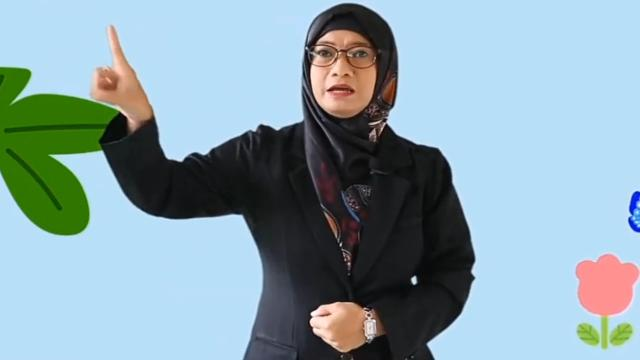D: (90, 25, 148, 115)
